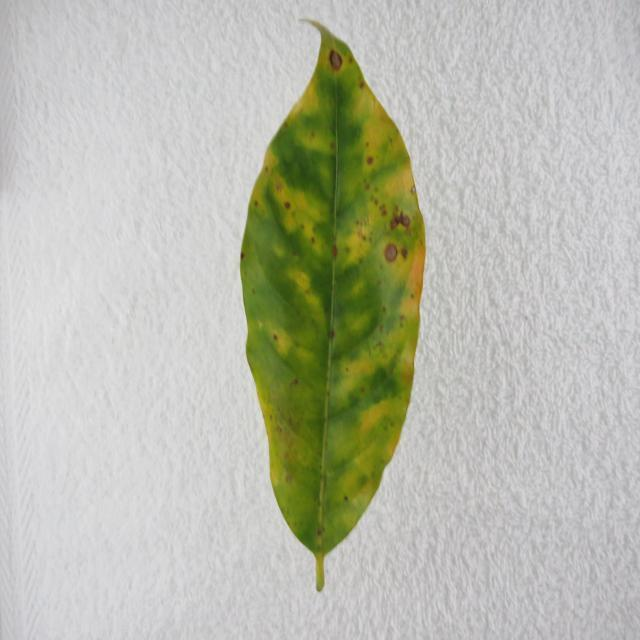DeficienciaNutricional-Fosforo: (241, 22, 425, 592)
